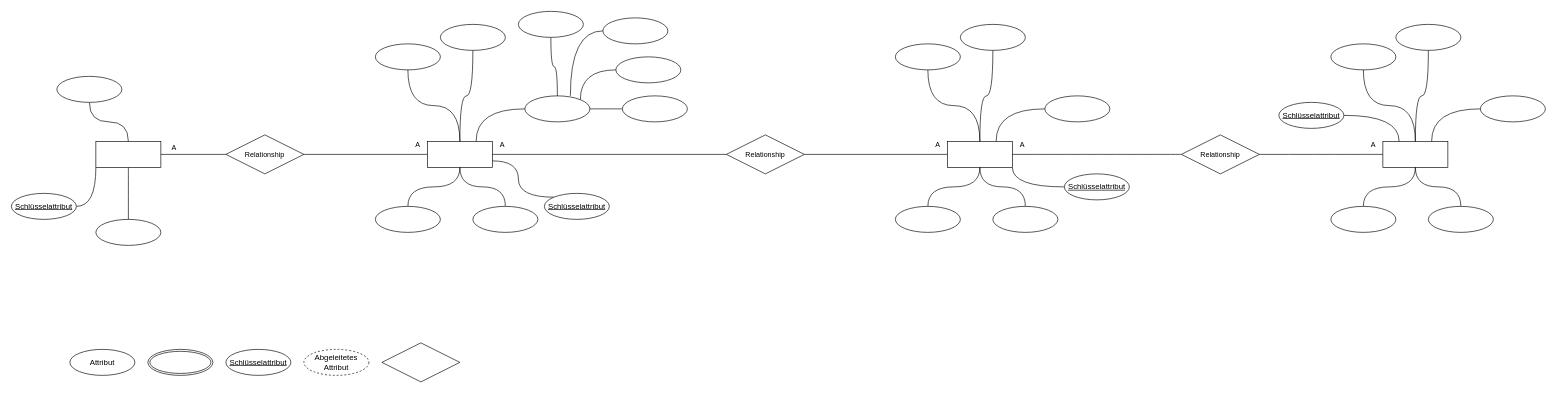
Some shapes in this 1557 by 393 pixel diagram are drawn without their labels. The shapes that lost their labels are listed below. From the top down, each one's box as (x1, y1, x2, y2) in pixels, then its label:
(147, 349, 213, 375): Mehrwertiges Attribut
(381, 342, 460, 382): Beziehung
